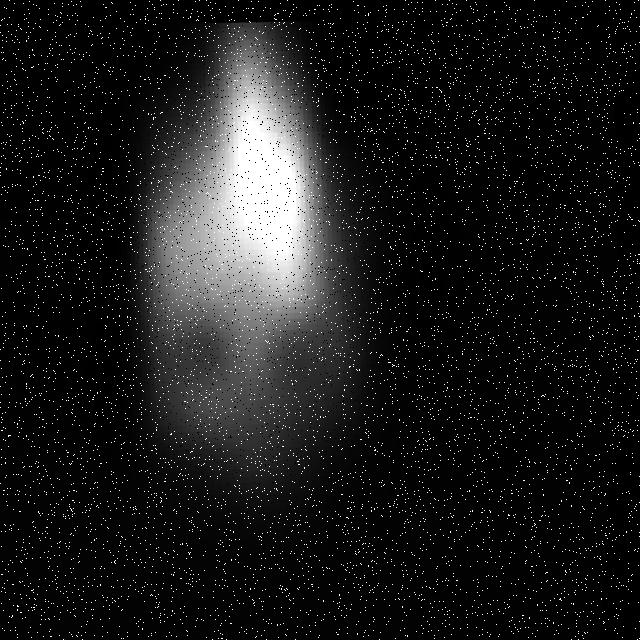person: (92, 7, 416, 503)
